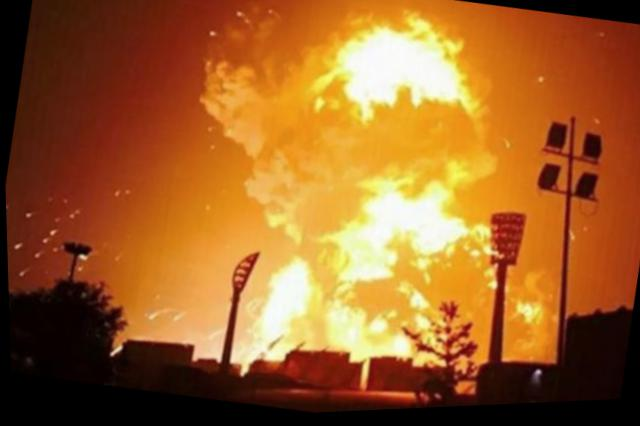fire: (227, 0, 524, 407)
